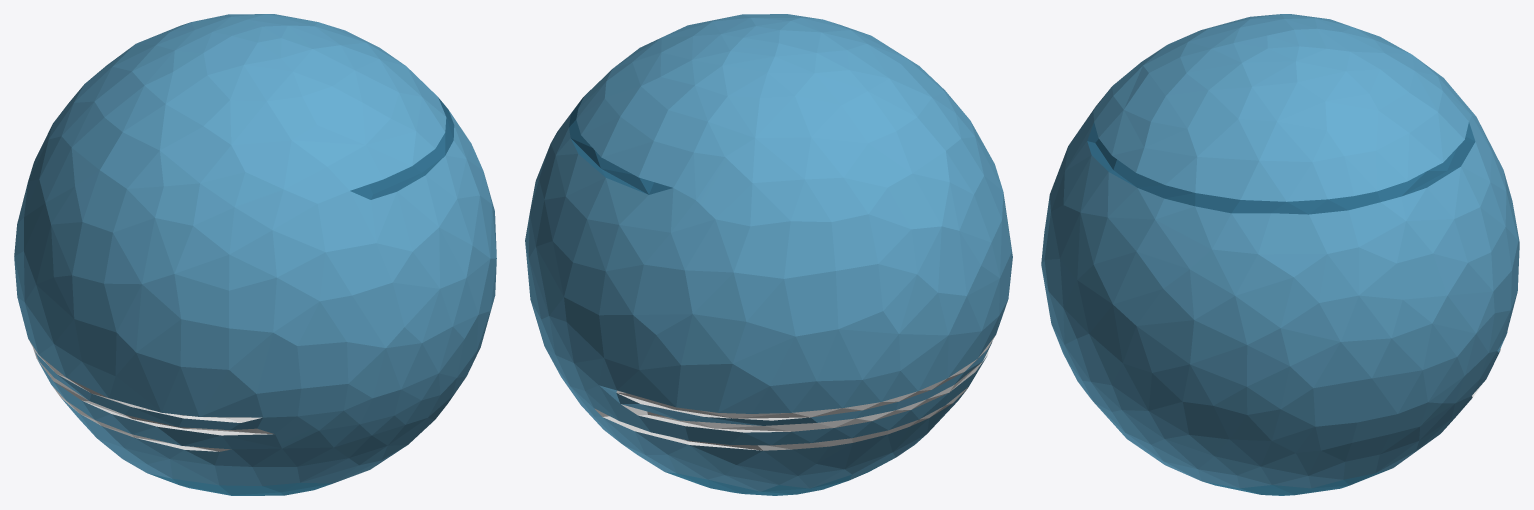
File: Water_Planet_01.fbx
3 renders of one model, left to right at view 1: azimuth 30°, elevation 25°; view 2: azimuth 150°, elevation 25°; view 3: azimuth 270°, elevation 25°, orthographic.
Visible parts, largest first — view 1: Water_Planet_01; view 2: Water_Planet_01; view 3: Water_Planet_01.
Boxes of the visible parts, x1=… form: Water_Planet_01: x1=14, y1=14, x2=496, y2=495; Water_Planet_01: x1=525, y1=14, x2=1012, y2=495; Water_Planet_01: x1=1041, y1=14, x2=1519, y2=495.
Size of the model in its own units: 18173 by 18161 by 18122.
